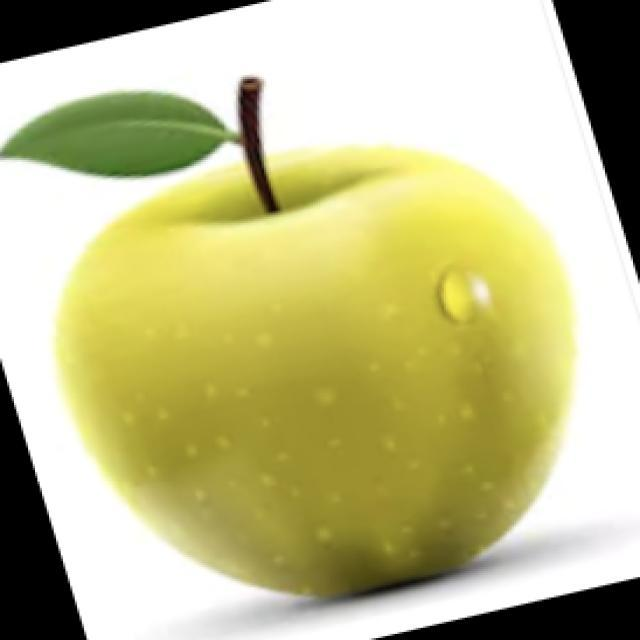Orange: (51, 82, 578, 601)
